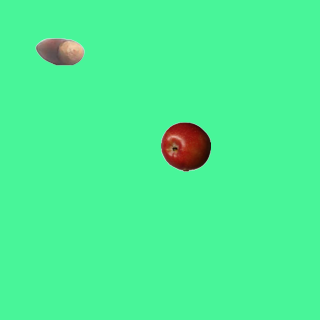Apple Braeburn: (160, 121, 210, 171)
Hazelnut: (34, 26, 84, 76)
